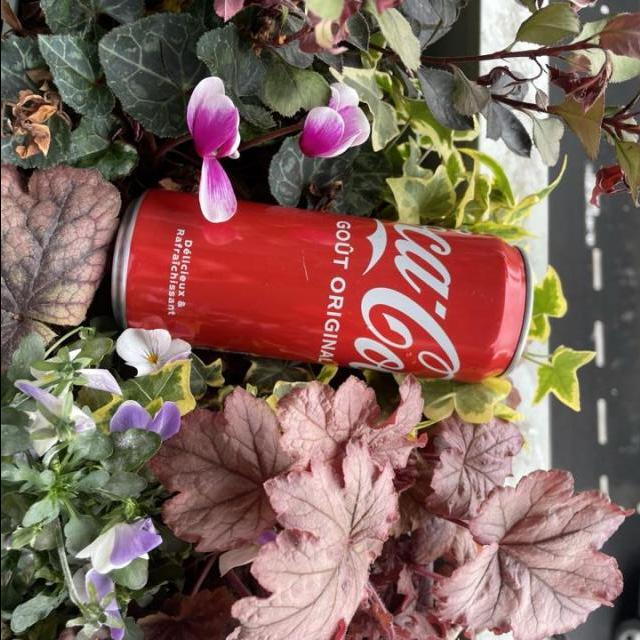can: (82, 168, 564, 396)
